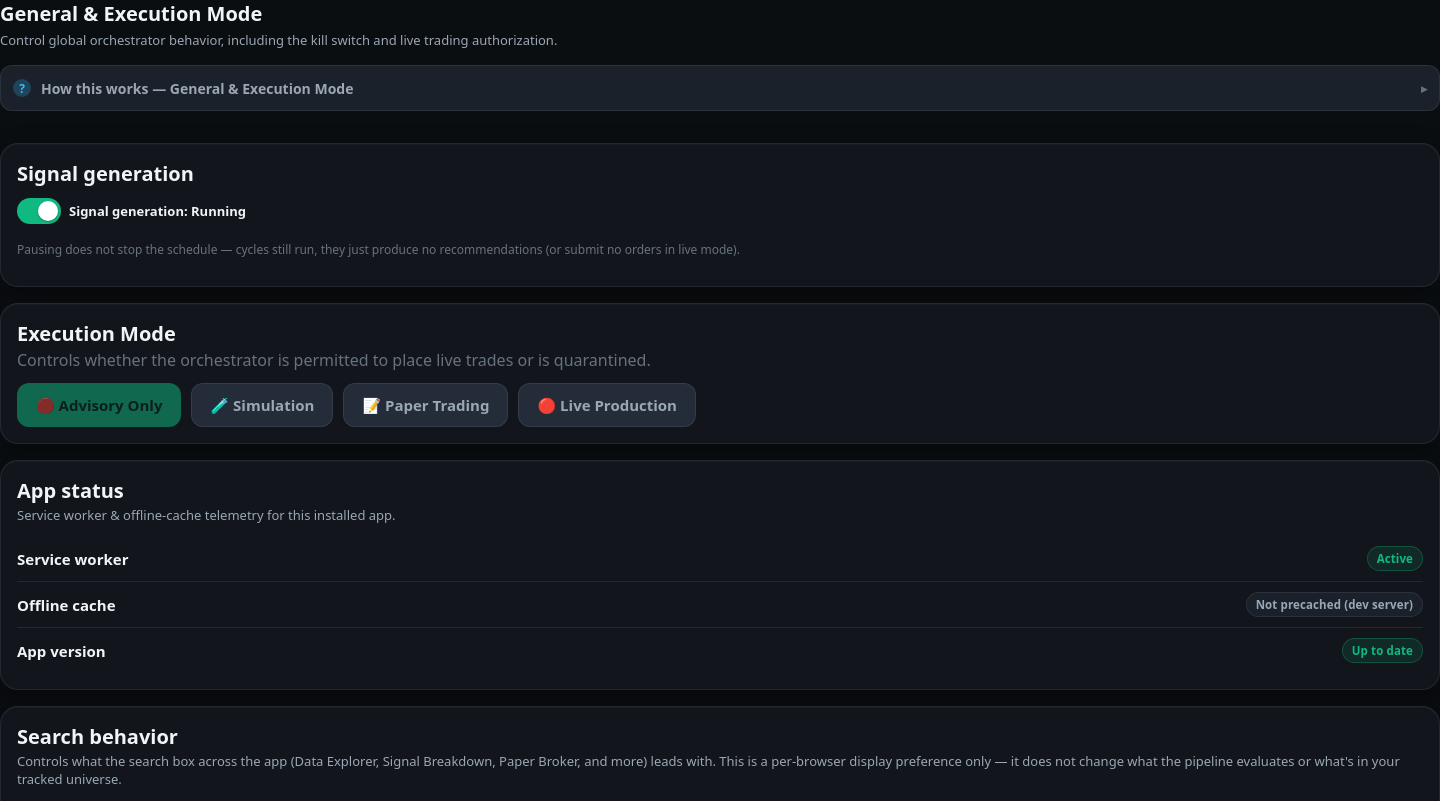
Scenario: SettingsGeneral screen — Execution mode (typed confirmation) › ADVISORY_ONLY CAN be flipped once every dangerous field is typed correctly -- and each is echoed by its own name in `confirm`
The image size is (1440, 801).
Click the button "🔴 Live Production": (607, 405) [518, 383, 696, 427]
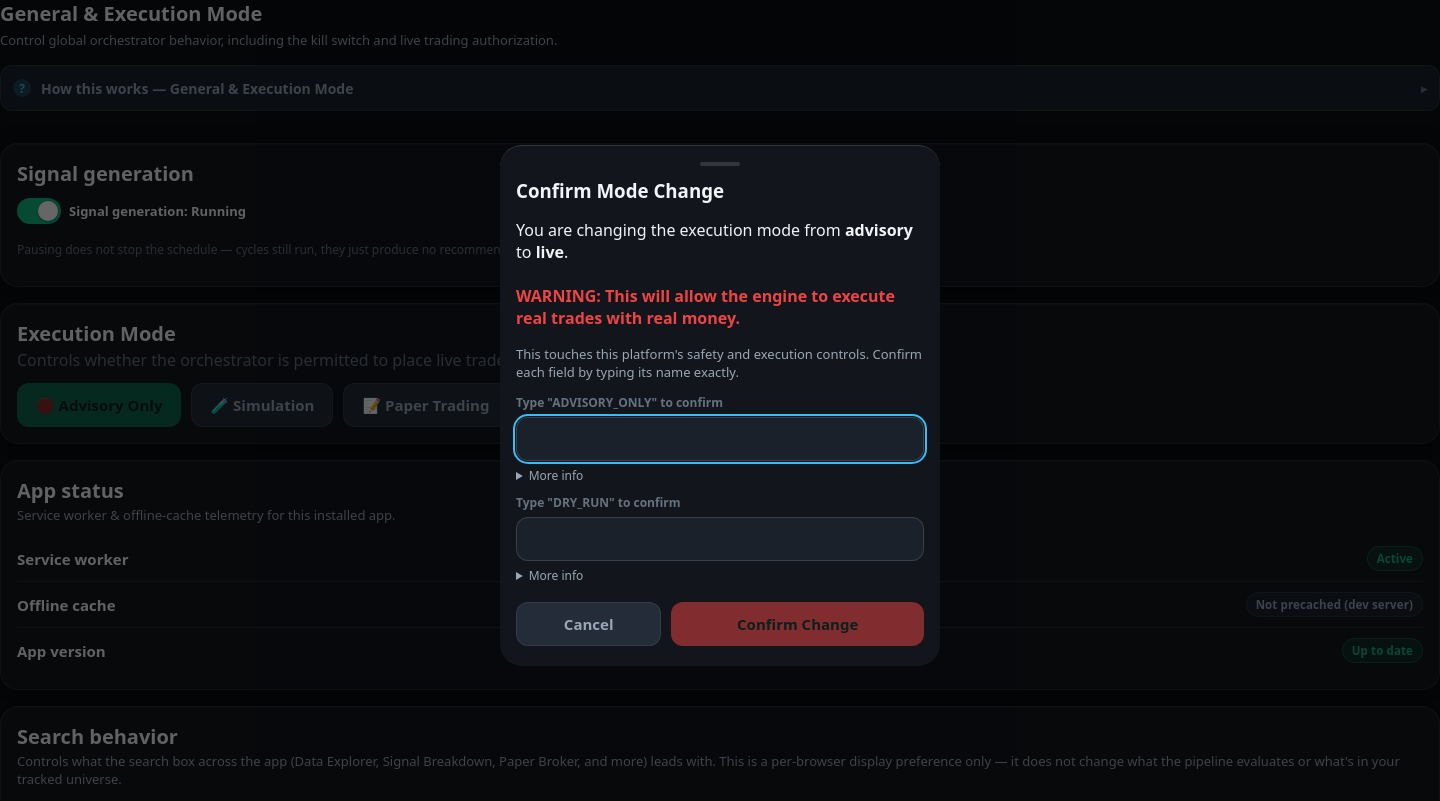
expect the button with test id "execution-mode-confirm" is disabled: met, box [671, 602, 924, 646]
In the field labelled "Type \"ADVISORY_ONLY\" to confirm": (720, 438) [516, 416, 924, 460], type "ADVISORY_ONLY"
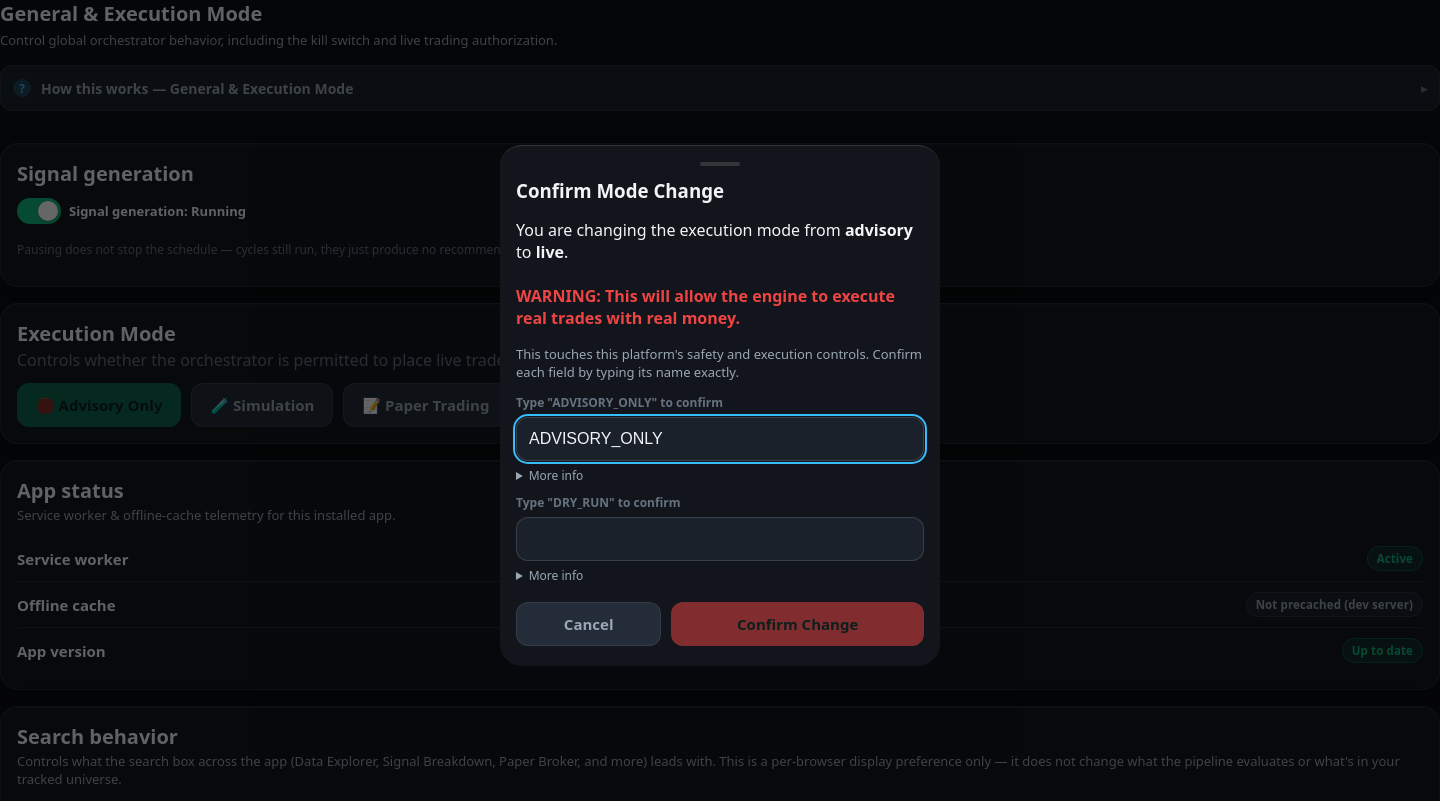
In the field labelled "Type \"DRY_RUN\" to confirm": (720, 538) [516, 516, 924, 560], type "DRY_RUN"
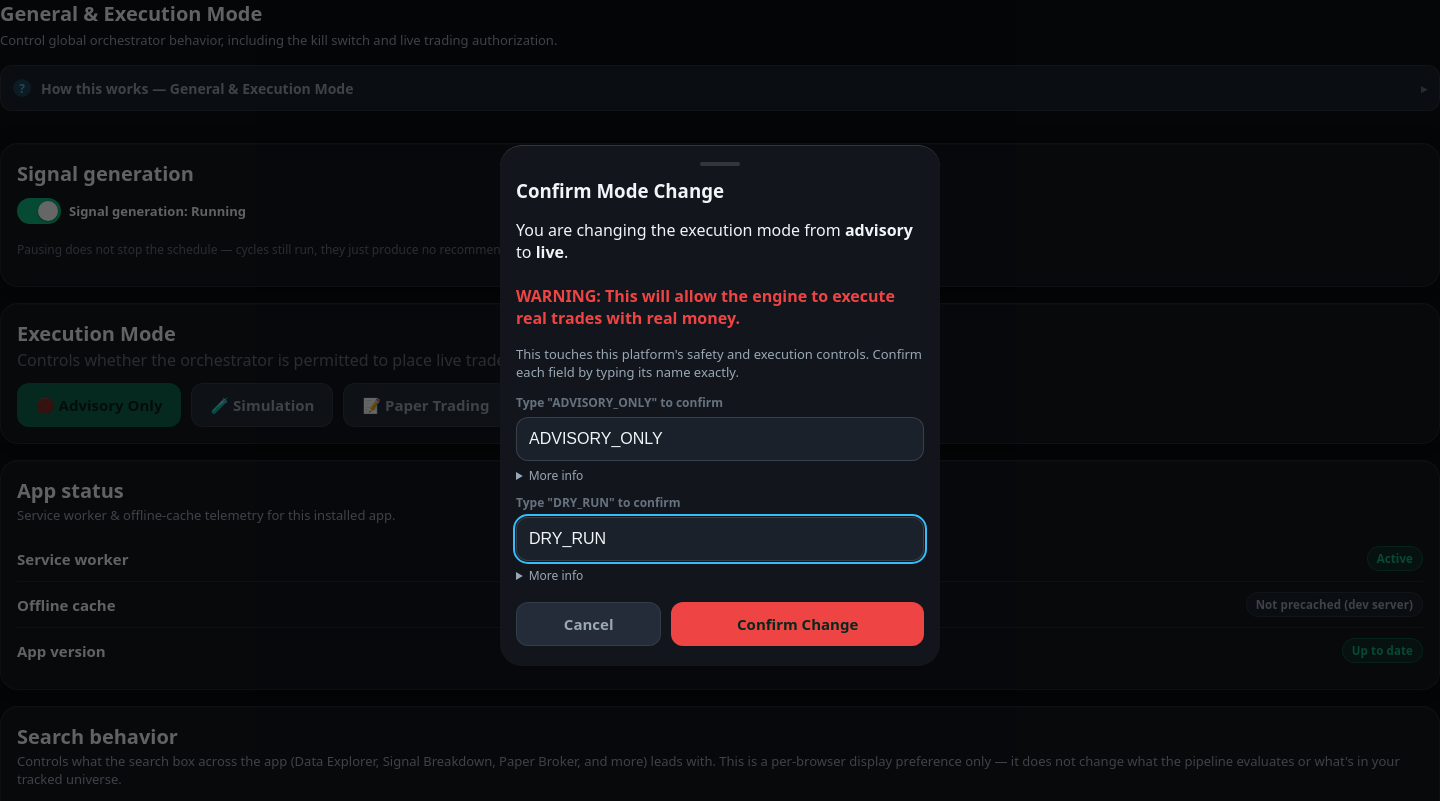
expect the button with test id "execution-mode-confirm" is enabled: met
Click the button with test id "execution-mode-confirm": (798, 624) [671, 602, 924, 646]
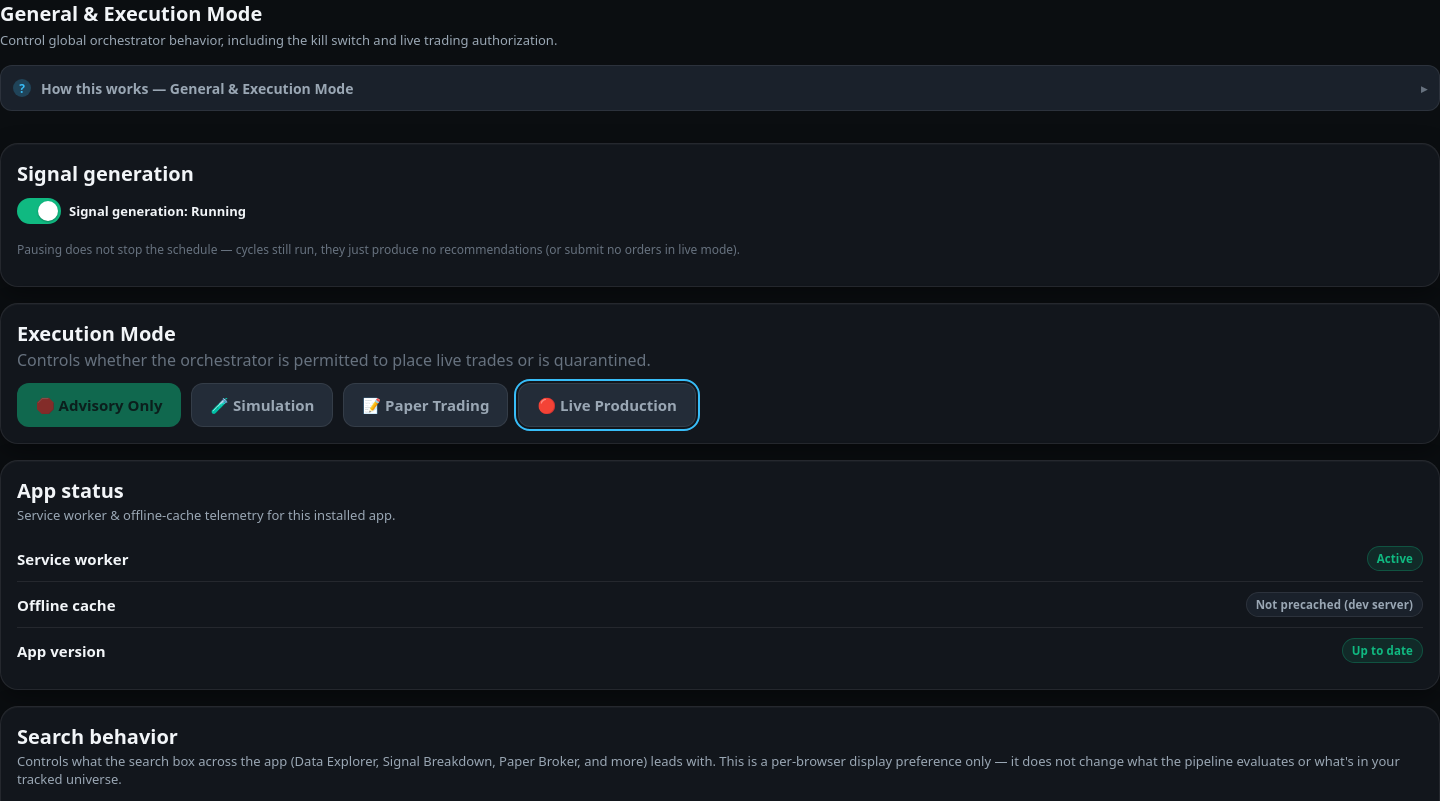
expect the heading "Confirm Mode Change" is gone: met
